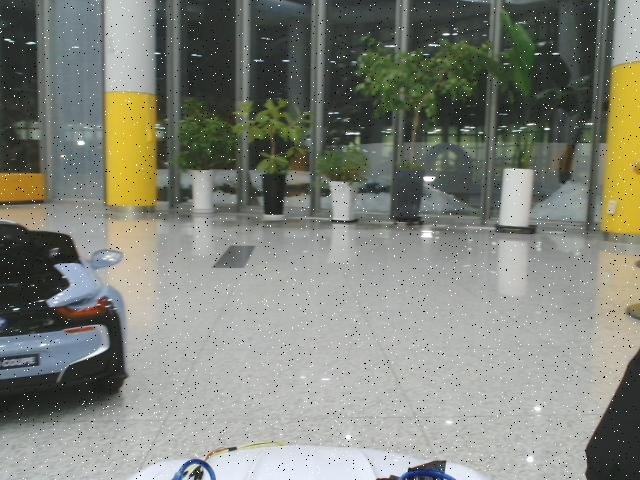car: (1, 220, 127, 412)
